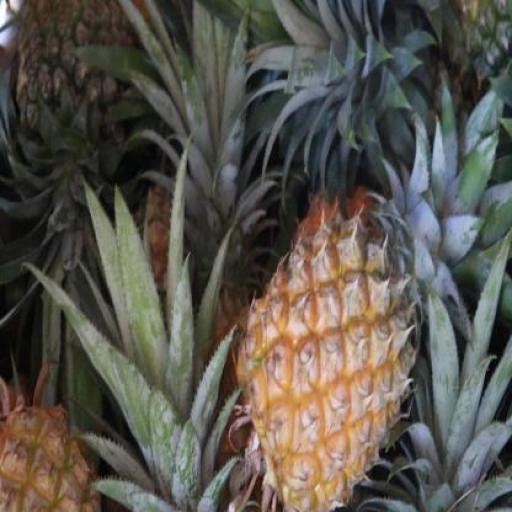Pineapple - v8 v1: (231, 213, 432, 512)
